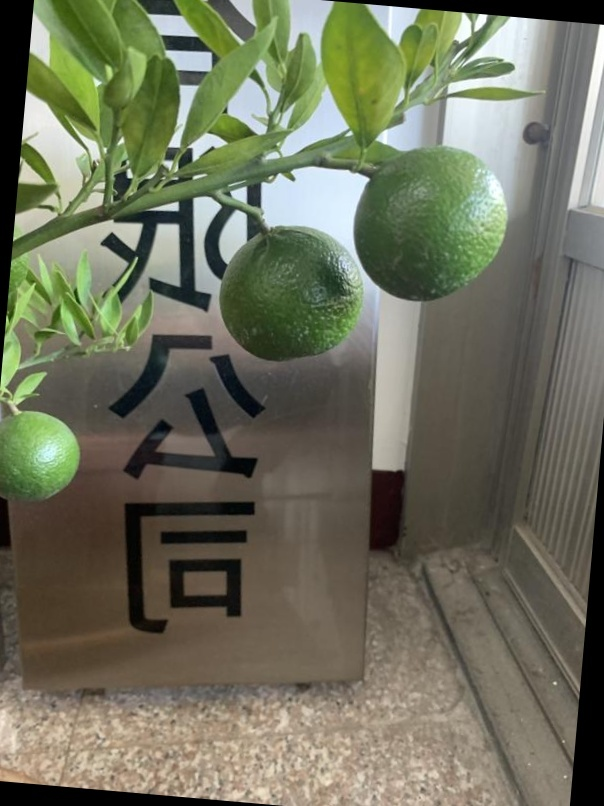Tangerine: (352, 147, 512, 301), (219, 224, 366, 366), (1, 408, 83, 504)
